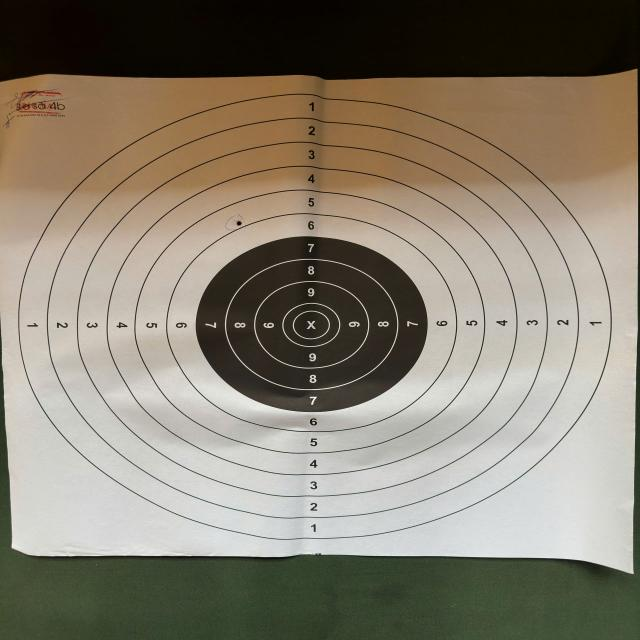bullet: (236, 220, 244, 228), (308, 100, 316, 108)
target: (0, 72, 628, 560)
